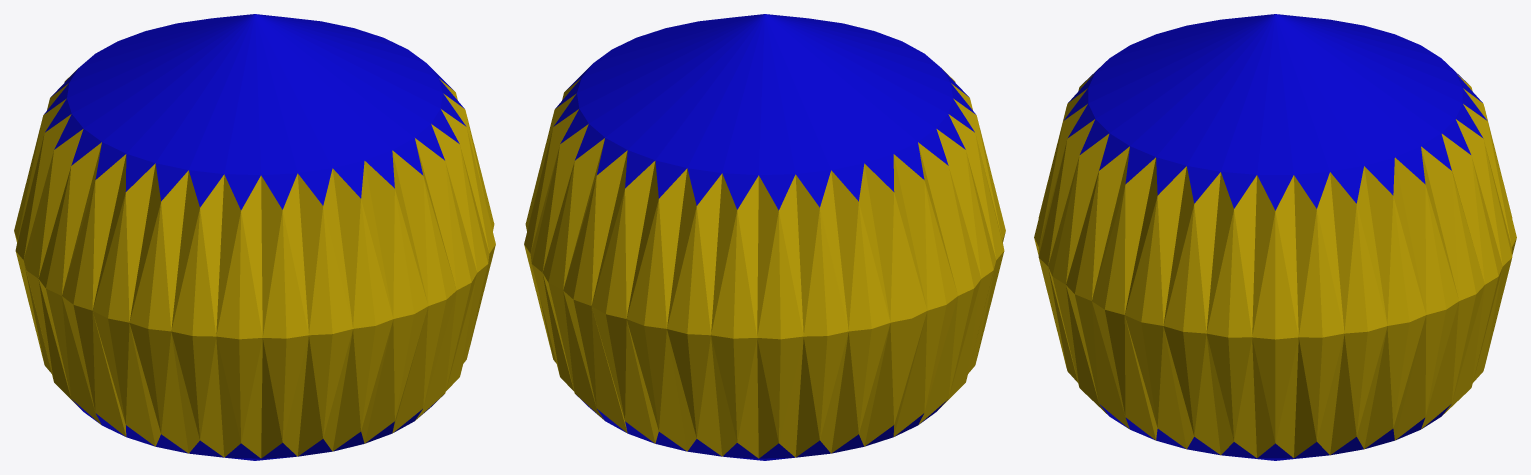
Rendered from top.obj.
The picture shows the model from 3 angles, left to right: view 1: azimuth 30°, elevation 25°; view 2: azimuth 150°, elevation 25°; view 3: azimuth 270°, elevation 25°; orthographic projection.
Visible parts, largest first — view 1: Cylinder; view 2: Cylinder; view 3: Cylinder.
Part boxes in pixels (x1,y1,x2,y2): Cylinder: (14, 14, 495, 460); Cylinder: (524, 14, 1005, 460); Cylinder: (1034, 14, 1516, 460).
Size of the model in its own units: 13.17 by 13.45 by 13.17.
